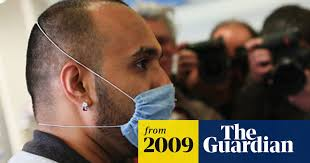mask: (114, 84, 192, 117)
